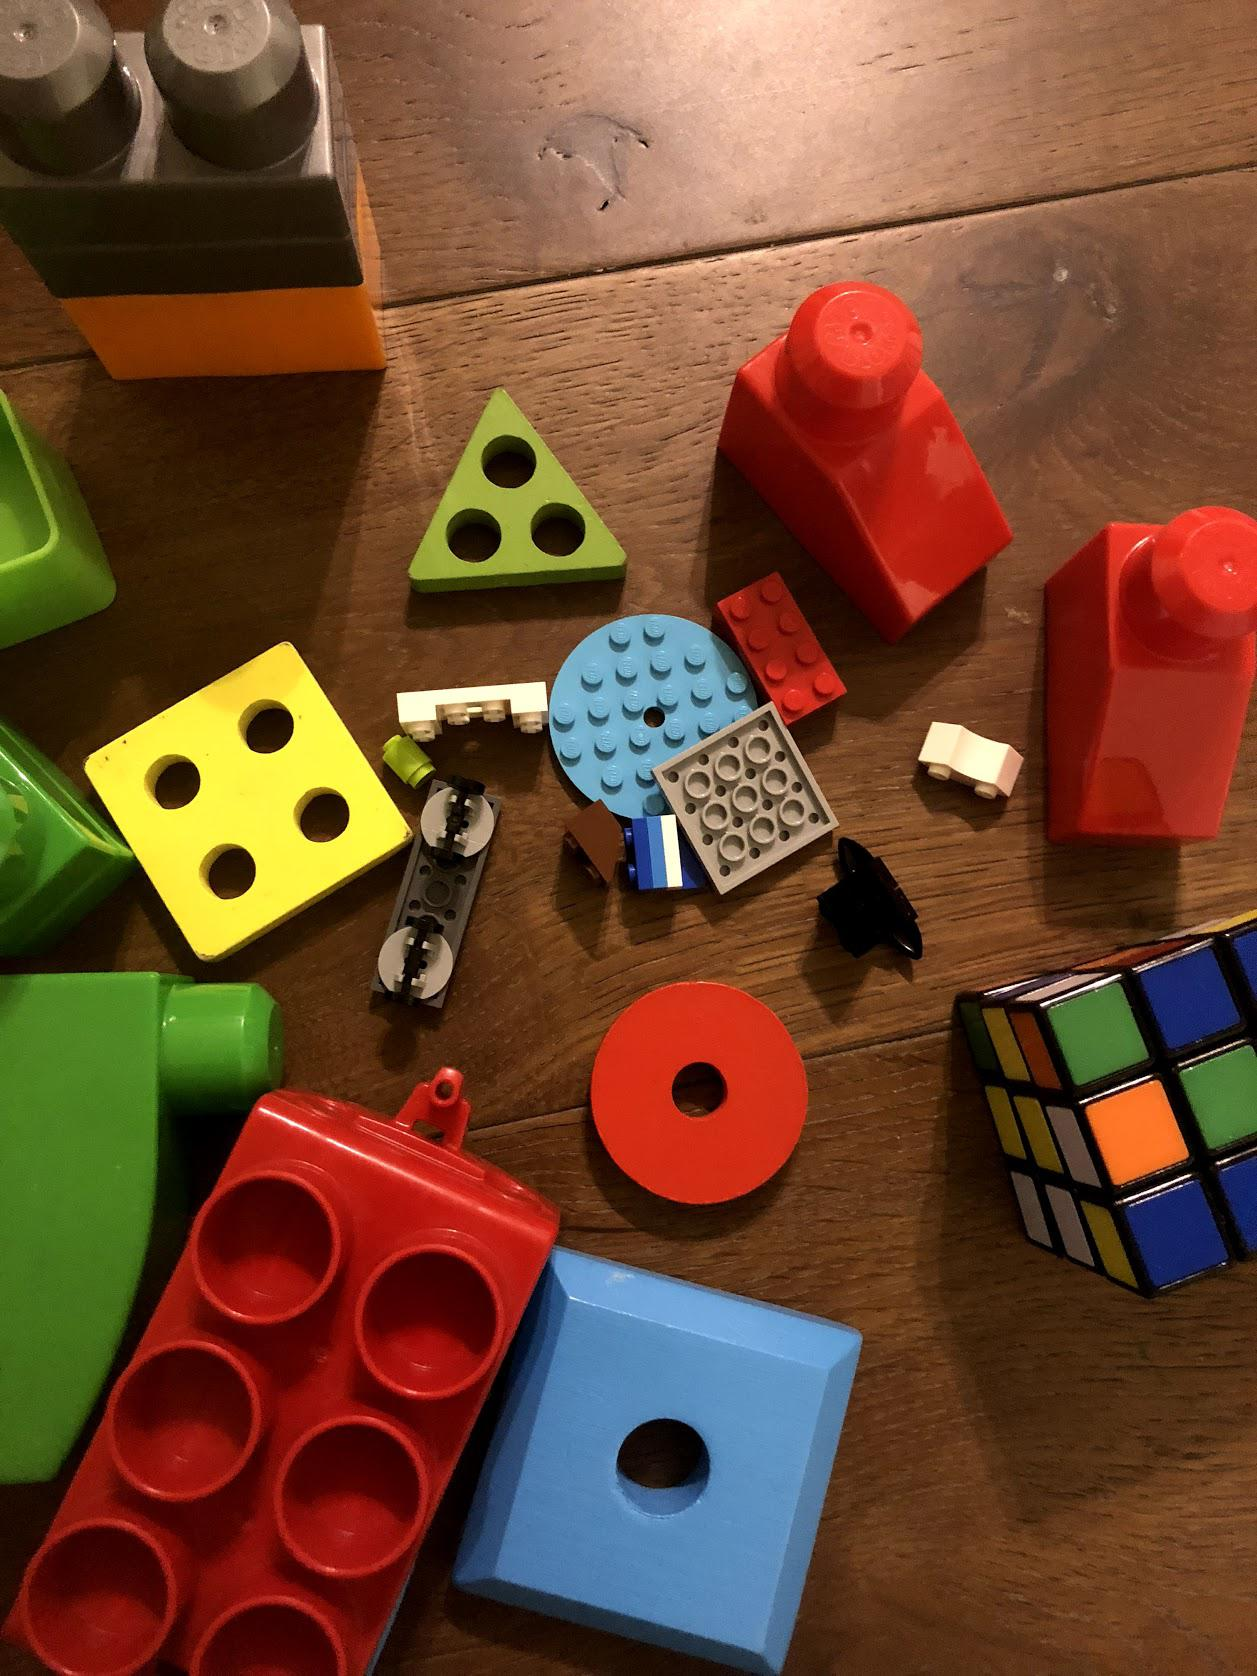Circle: (595, 978, 813, 1204)
Square: (87, 641, 416, 955)
Triangle: (401, 385, 634, 574)
